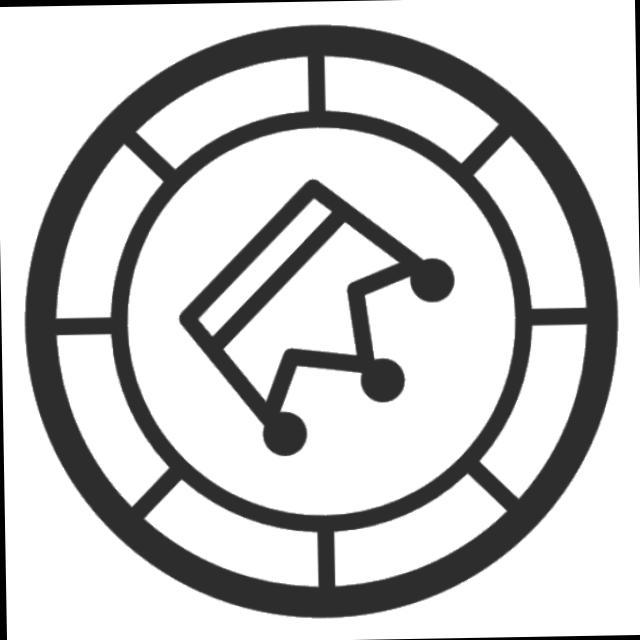coin: (10, 7, 633, 636)
